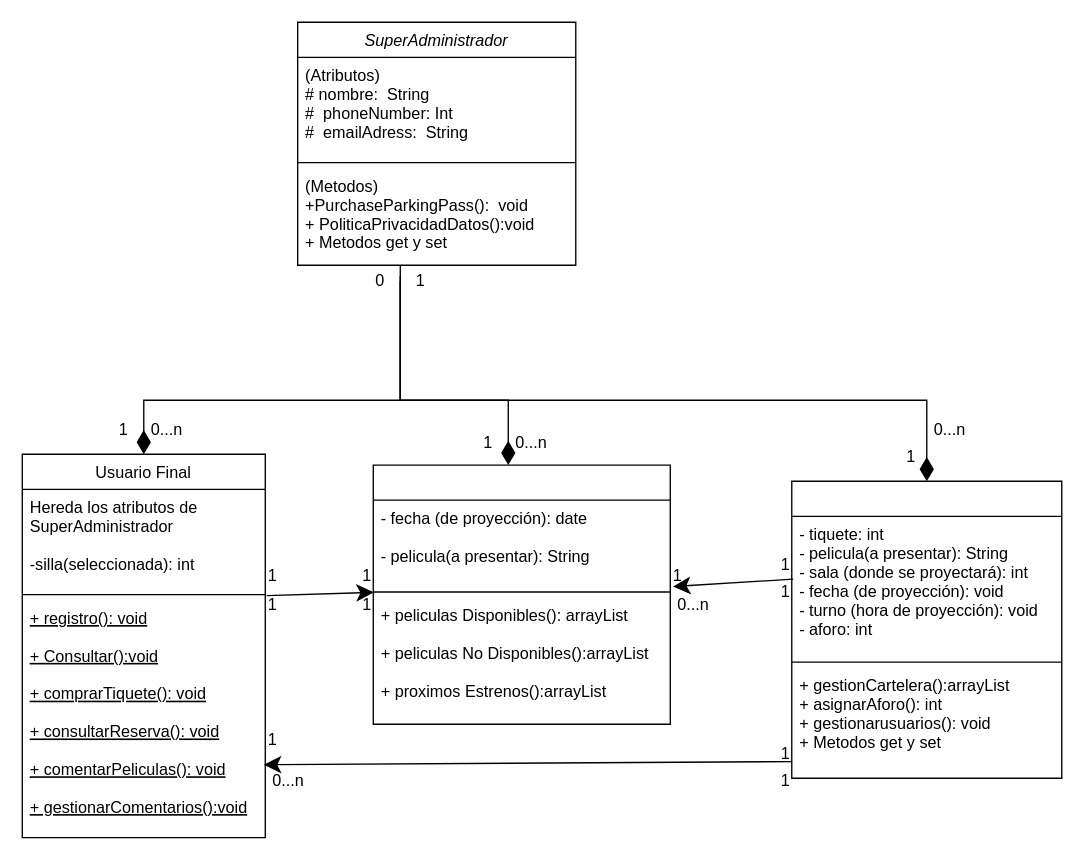
Image size: 1084x860. Some labels were removed from this diagram. The shapes that lost their labels are listed below. From the top down, each one's box as (x1, y1, x2, y2) in pixels, then its label:
(372, 464, 670, 724): Cartelera
(790, 480, 1062, 778): Administrador
